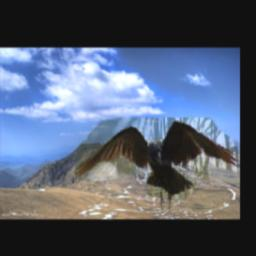Crow: (75, 117, 238, 210)
